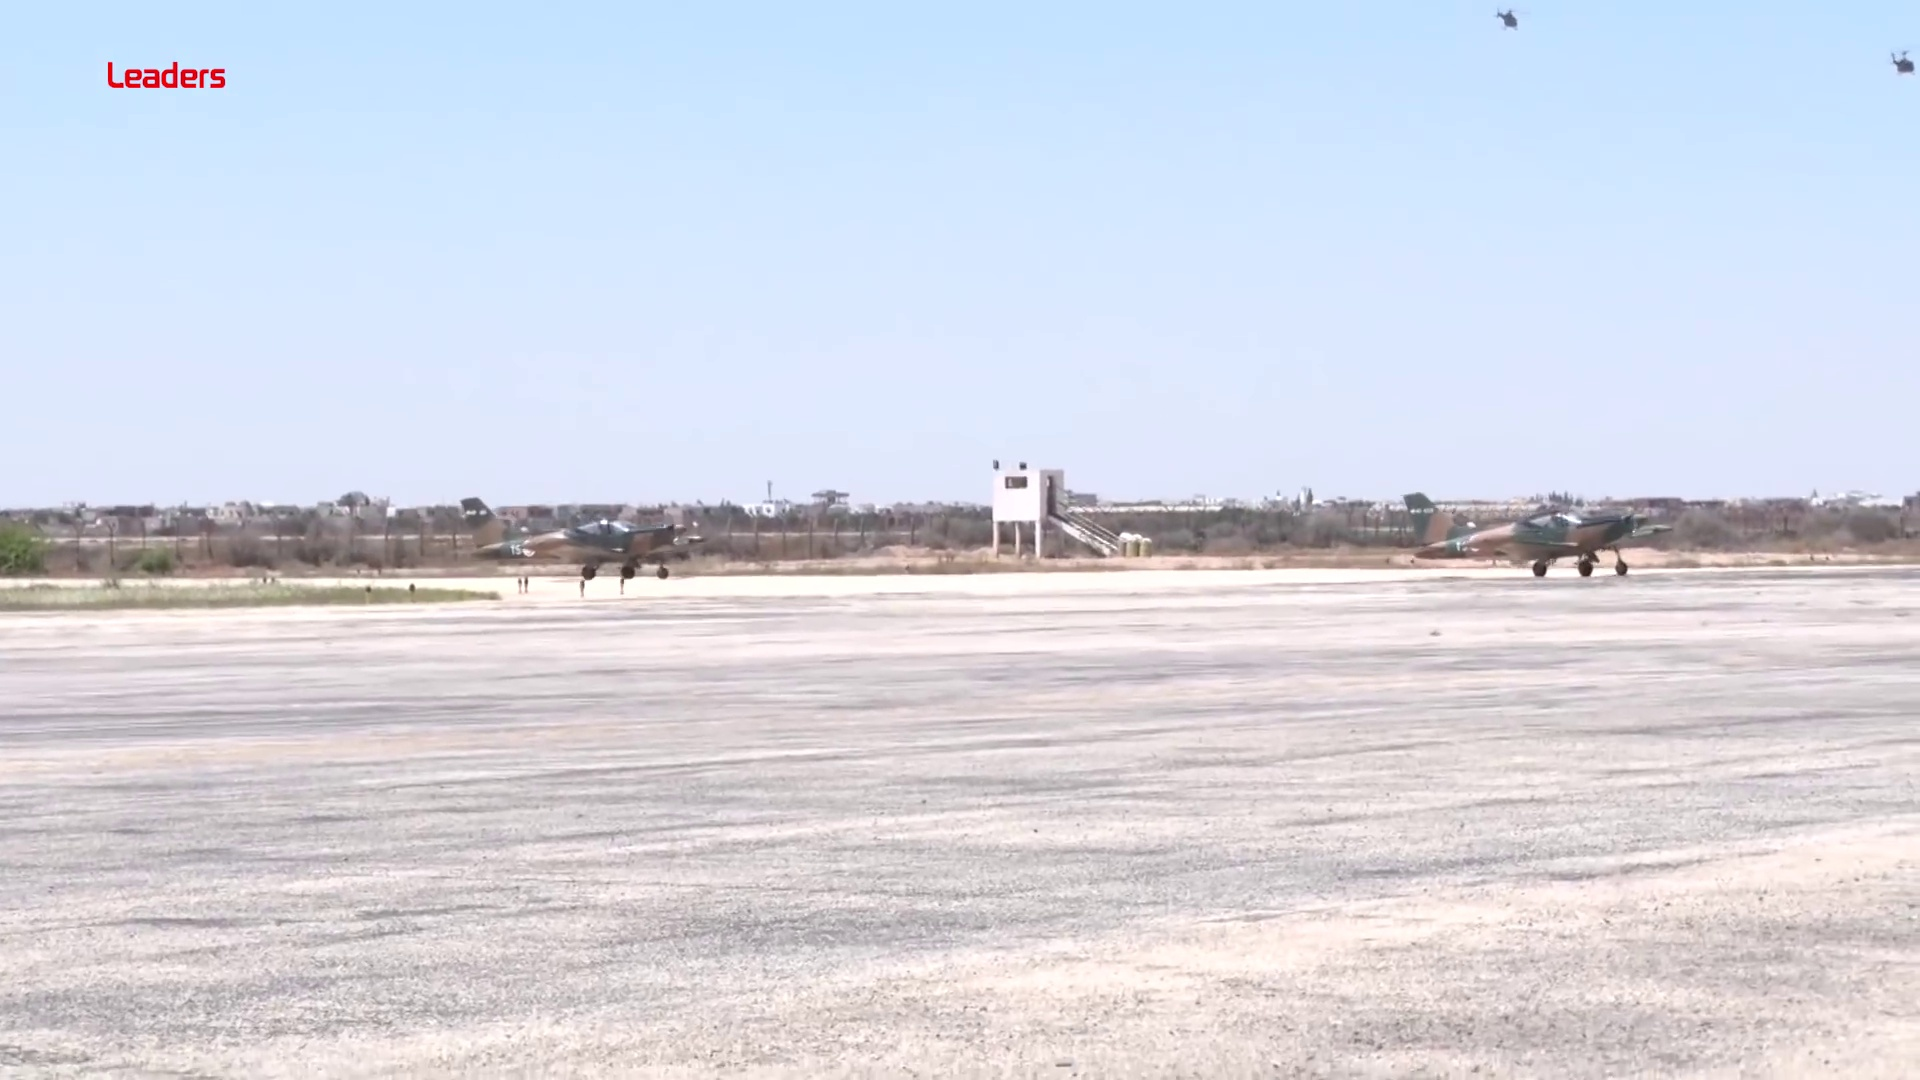Airplane: (1408, 483, 1671, 578), (462, 510, 716, 589)
